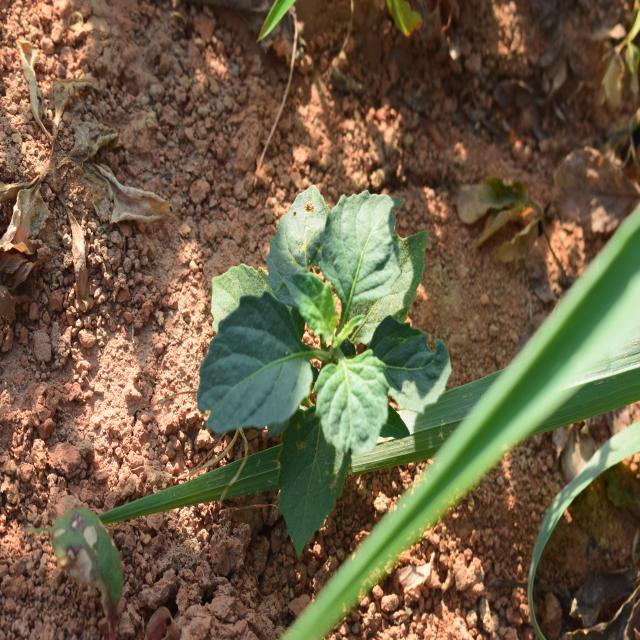Black_nightshade: (189, 186, 445, 465)
